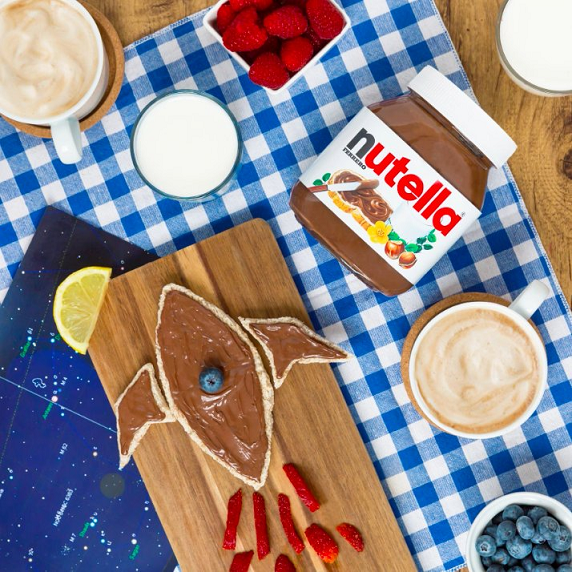nutella: (285, 63, 520, 297)
